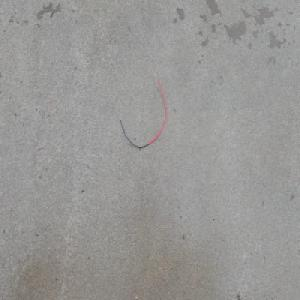Wire: (115, 72, 167, 150)
